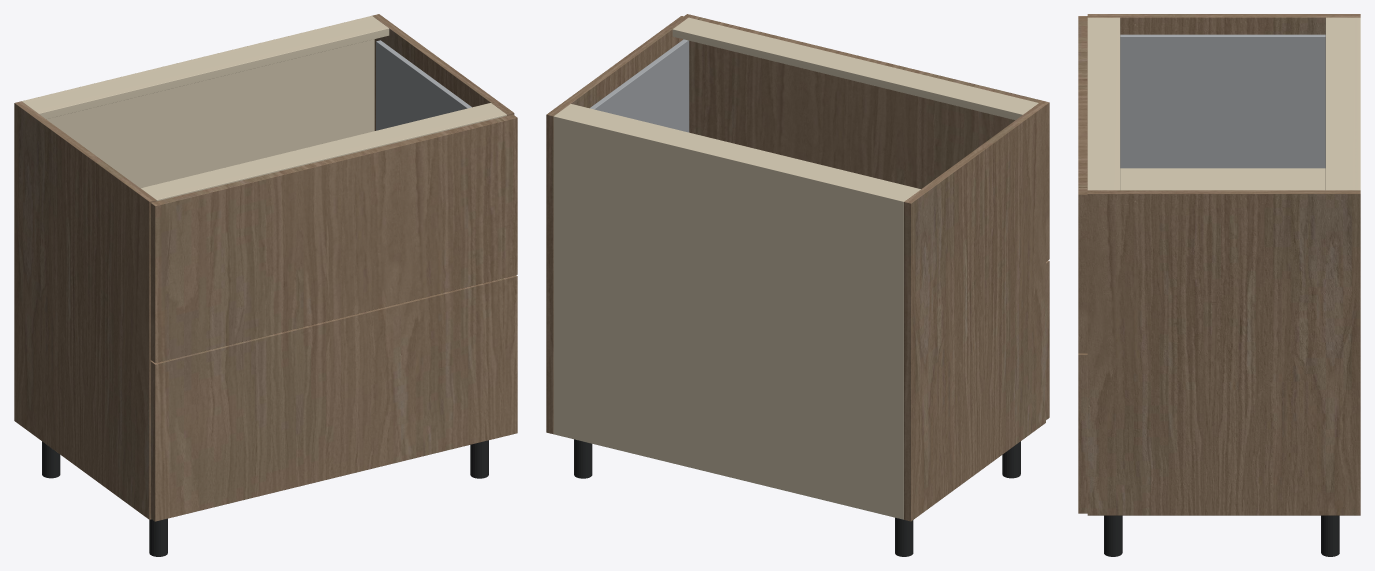
File: oppein-ply-mnw-2db36.glb
3 renders of one model, left to right at view 1: azimuth 30°, elevation 25°; view 2: azimuth 150°, elevation 25°; view 3: azimuth 270°, elevation 25°, orthographic.
Parts seen in each view (by area): view 1: Drawer front.001, Drawer front, Cabinet side, Cabinet back, Top support rail, Top support rail.001, Drawer side.003, Cabinet side.001, Adjustable foot.001, Adjustable foot.003; view 2: Cabinet back, Cabinet side, Drawer front.001, Top support rail.001, Cabinet side.001, Top support rail, Drawer side.003, Adjustable foot, Adjustable foot.002, Drawer front; view 3: Cabinet side.001, Drawer side.002, Top support rail.001, Top support rail, Drawer floor.001, Cabinet side, Drawer front.001, Drawer front, Cabinet back, Adjustable foot.003, Adjustable foot.002.
Boxes of the visible parts, left/top/right/bottom form: Drawer front.001: left=150, top=114, right=517, bottom=362; Drawer front: left=150, top=275, right=517, bottom=521; Cabinet side: left=14, top=101, right=156, bottom=519; Cabinet back: left=21, top=15, right=374, bottom=188; Top support rail: left=24, top=17, right=389, bottom=119; Top support rail.001: left=141, top=103, right=506, bottom=201; Drawer side.003: left=376, top=40, right=471, bottom=130; Cabinet side.001: left=372, top=14, right=514, bottom=130; Adjustable foot.001: left=149, top=518, right=167, bottom=556; Adjustable foot.003: left=470, top=440, right=488, bottom=478; Cabinet back: left=553, top=114, right=905, bottom=519; Cabinet side: left=904, top=103, right=1045, bottom=521; Drawer front.001: left=684, top=14, right=1049, bottom=261; Top support rail.001: left=672, top=17, right=1038, bottom=120; Cabinet side.001: left=546, top=16, right=688, bottom=434; Top support rail: left=556, top=104, right=920, bottom=199; Drawer side.003: left=590, top=39, right=689, bottom=132; Adjustable foot: left=895, top=517, right=913, bottom=556; Adjustable foot.002: left=574, top=439, right=592, bottom=478; Drawer front: left=1046, top=260, right=1049, bottom=419; Cabinet side.001: left=1087, top=190, right=1360, bottom=515; Drawer side.002: left=1120, top=34, right=1325, bottom=168; Top support rail.001: left=1087, top=17, right=1120, bottom=190; Top support rail: left=1325, top=17, right=1357, bottom=190; Drawer floor.001: left=1120, top=168, right=1325, bottom=190; Cabinet side: left=1087, top=14, right=1360, bottom=34; Drawer front.001: left=1078, top=16, right=1087, bottom=353; Drawer front: left=1078, top=353, right=1087, bottom=513; Cabinet back: left=1355, top=17, right=1360, bottom=190; Adjustable foot.003: left=1104, top=515, right=1122, bottom=556; Adjustable foot.002: left=1321, top=515, right=1339, bottom=556.
Size of the model in its own units: 0.9144 by 0.8763 by 0.6064.
4 materials, 1 textured.
